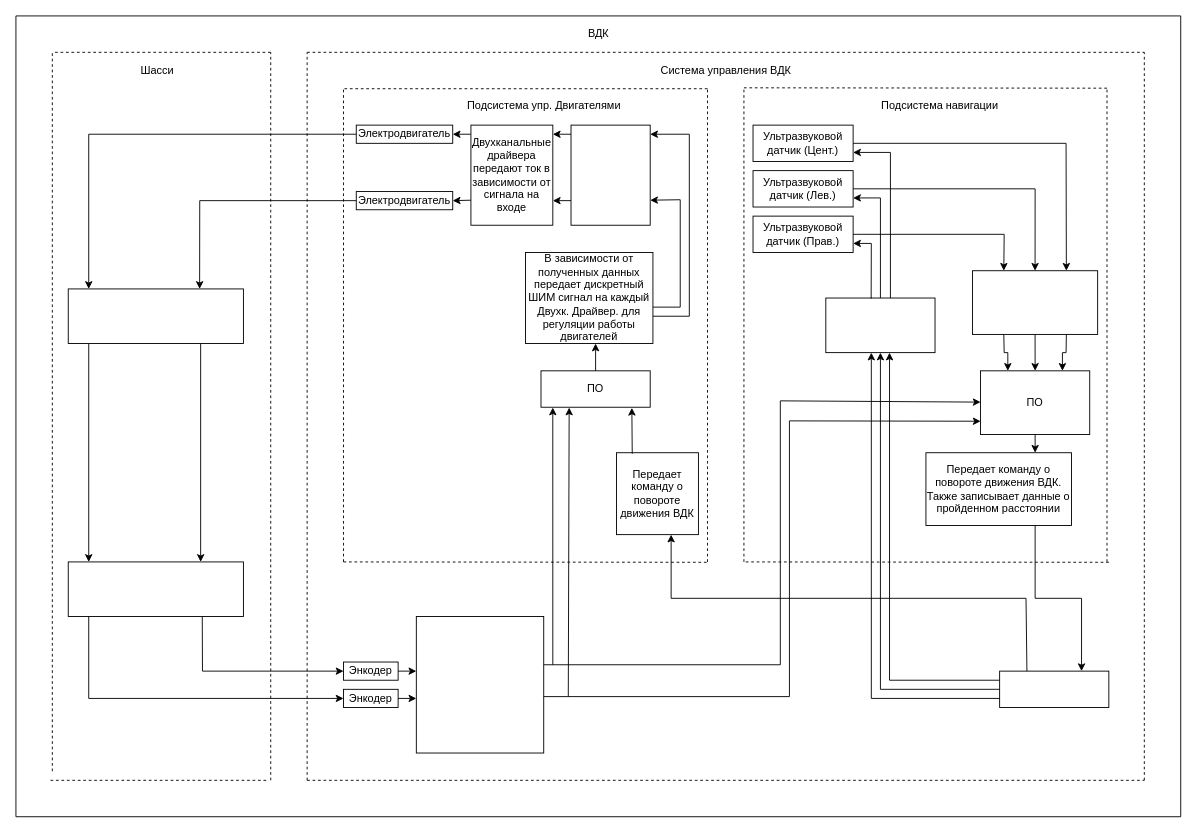
This 1198x834 diagram has some shape labels left out. Here are the shapes that lost their labels. From the top down, the centre of each, then its label:
pixel 610 174: Двухканальный драйвер
pixel 155 316: Исходя из скорости двигателя изменяется сила тока в цепи
pixel 1035 302: передает дискретный сигнал характеризующий наличие УЗ на входе
pixel 880 325: Подает дискретный сигнал для отправки УЗ
pixel 155 589: Энкодер фиксирует изменение силы тока в цепи
pixel 479 684: Передает аналоговый сигнал
pixel 1054 689: Микроконтроллер
